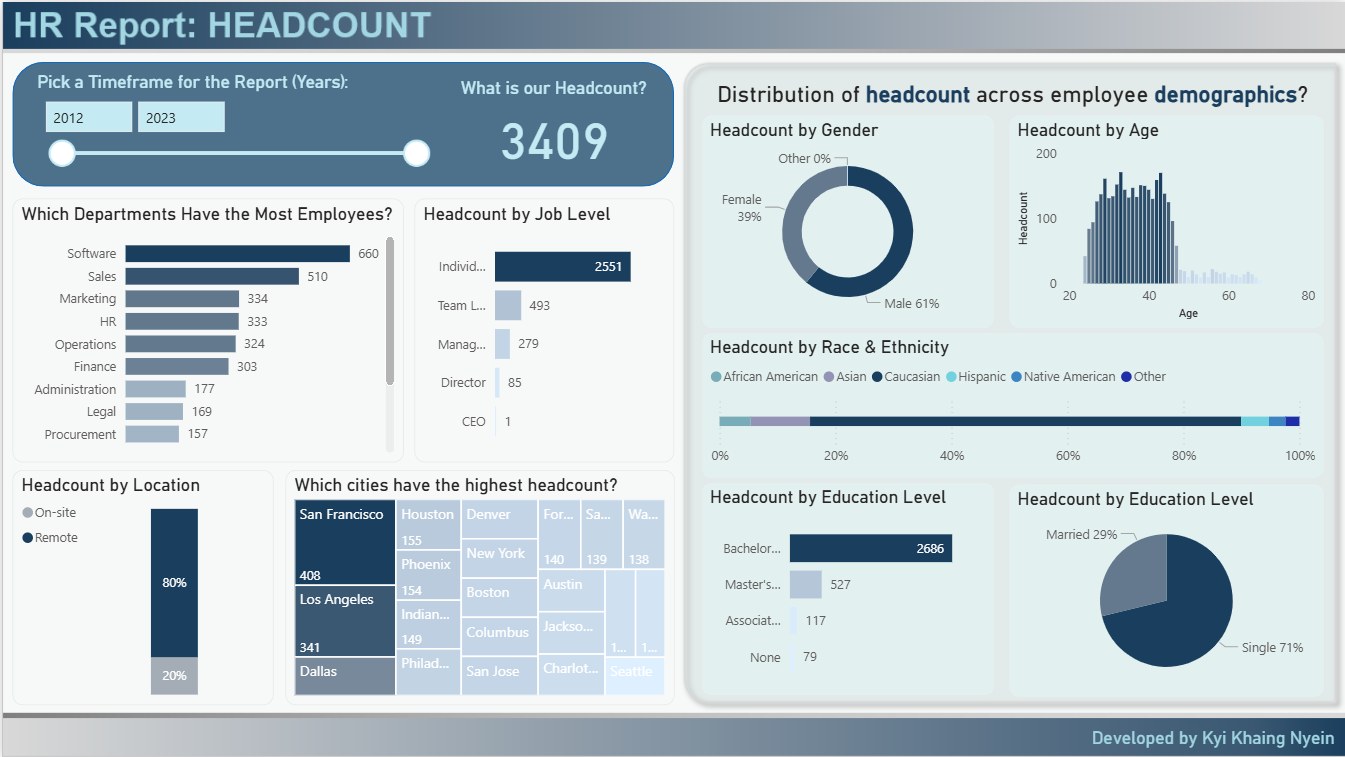

What the dashboard file says about the page in this screenshot:
{"tool":"powerbi","page":{"name":"Headcount","canvas":[1280,720],"ordinal":0},"visuals":[{"type":"shape","box":[10,57.1,630,118.6],"z":0},{"type":"textbox","box":[1032.9,685.7,245.7,30],"z":1000},{"type":"slicer","title":"Pick a Timeframe for the Report (Years):","fields":{"Values":["Dates_dim.Year"]},"box":[28.6,65.7,387.1,101.4],"z":2000},{"type":"card","title":"What is our Headcount?","fields":{"Values":["Measure Table.Headcount"]},"box":[427.1,71.4,197.1,91.4],"z":3000},{"type":"clusteredBarChart","title":"Which Departments Have the Most Employees?","fields":{"Y":["Measure Table.Headcount"],"Category":["People_fact.department"]},"box":[10,187.1,372.9,251.4],"z":4000},{"type":"clusteredBarChart","title":"Headcount by Job Level","fields":{"Y":["Measure Table.Headcount"],"Category":["People_fact.job_level"]},"box":[392.9,187.1,247.1,251.4],"z":5000},{"type":"hundredPercentStackedColumnChart","title":"Headcount by Location","fields":{"Y":["Measure Table.Headcount"],"Series":["People_dim.location"]},"box":[10,445.7,248.6,224.3],"z":6000},{"type":"treemap","title":"Which cities have the highest headcount?","fields":{"Values":["Measure Table.Headcount"],"Group":["People_dim.location_city"]},"box":[269.5,445.2,371,224.1],"z":7000},{"type":"textbox","box":[665.7,70,594.3,35.7],"z":8000},{"type":"donutChart","title":"Headcount by Gender","fields":{"Y":["Measure Table.Headcount"],"Category":["People_dim.gender"]},"box":[665.7,107.1,280,204.3],"z":9000},{"type":"clusteredColumnChart","title":"Headcount by Age","fields":{"Y":["Measure Table.Headcount"],"Category":["People_dim.birth_date"]},"box":[958.6,106.5,301.4,204.3],"z":10000},{"type":"clusteredBarChart","title":"Headcount by Education Level","fields":{"Y":["Measure Table.Headcount"],"Category":["People_dim.education"]},"box":[665.7,457.1,280,204.3],"z":11000},{"type":"hundredPercentStackedBarChart","title":"Headcount by Race & Ethnicity","fields":{"Y":["Measure Table.Headcount"],"Series":["People_dim.race"]},"box":[665.7,314,594.3,140],"z":12000},{"type":"pieChart","title":"Headcount by Education Level","fields":{"Y":["Measure Table.Headcount"],"Category":["People_dim.marital_status"]},"box":[958.6,458.6,301.4,204.3],"z":13000}]}

Visuals, with their boxes in screenshot pixels (x1, y1, x2, y2), scaled from the page's 1280x720 canvas onto the 1345x757 screenshot:
shape: box(11, 60, 672, 185)
textbox: box(1085, 721, 1344, 752)
"Pick a Timeframe for the Report (Years):" slicer: box(30, 69, 437, 176)
"What is our Headcount?" card: box(449, 75, 656, 171)
"Which Departments Have the Most Employees?" clusteredBarChart: box(11, 197, 402, 461)
"Headcount by Job Level" clusteredBarChart: box(413, 197, 672, 461)
"Headcount by Location" hundredPercentStackedColumnChart: box(11, 469, 272, 704)
"Which cities have the highest headcount?" treemap: box(283, 468, 673, 704)
textbox: box(700, 74, 1324, 111)
"Headcount by Gender" donutChart: box(700, 113, 994, 327)
"Headcount by Age" clusteredColumnChart: box(1007, 112, 1324, 327)
"Headcount by Education Level" clusteredBarChart: box(700, 481, 994, 695)
"Headcount by Race & Ethnicity" hundredPercentStackedBarChart: box(700, 330, 1324, 477)
"Headcount by Education Level" pieChart: box(1007, 482, 1324, 697)
